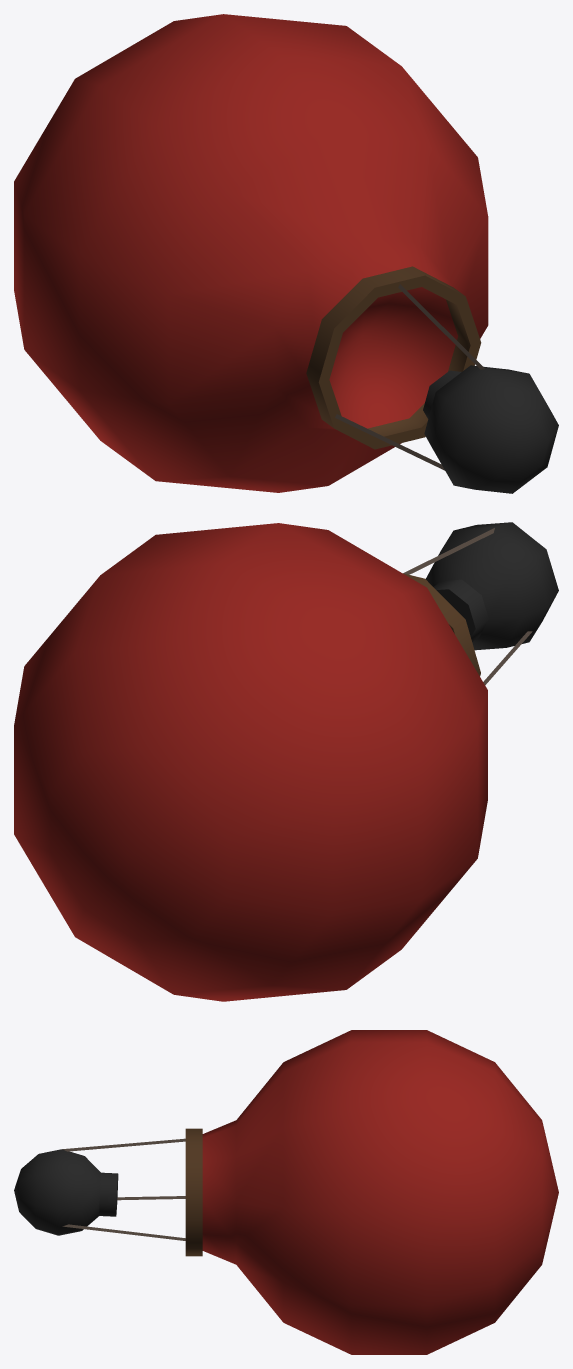
File: balloon_02.fbx
The picture shows the model from 3 angles, top to bottom: view 1: azimuth 30°, elevation 25°; view 2: azimuth 150°, elevation 25°; view 3: azimuth 270°, elevation 25°; orthographic projection. The views are drawn at different scales.
Visible parts, largest first — view 1: Sphere; view 2: Sphere; view 3: Sphere.
Boxes of the visible parts, x1,y1,x2,y2 form: Sphere: [14, 14, 558, 493]; Sphere: [14, 522, 558, 1001]; Sphere: [14, 1030, 558, 1354].
Bounding box in the file's own units: 32108 × 18544 × 19499.
